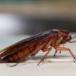cockroach: (1, 29, 75, 64)
